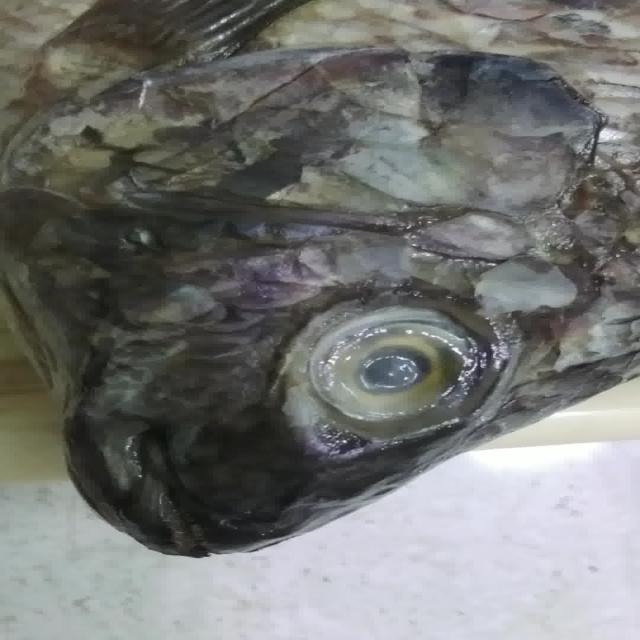Non-Fresh: (322, 301, 482, 437)
